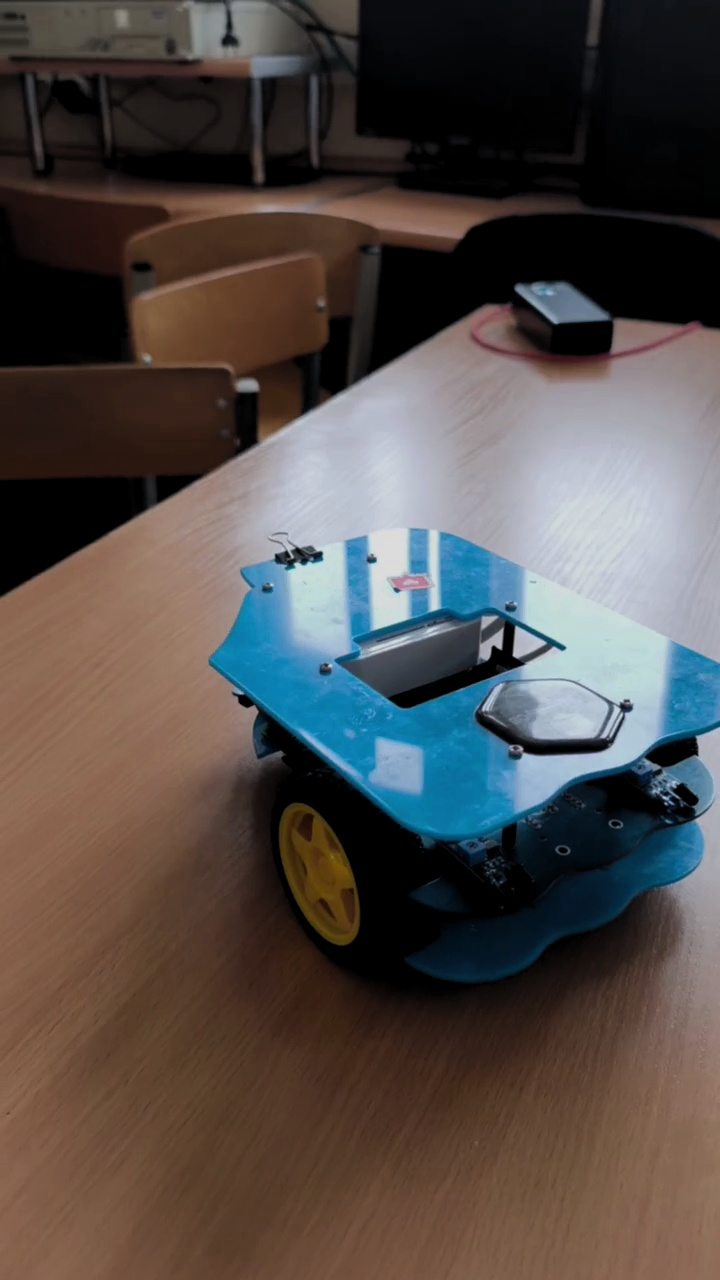robot: (206, 526, 720, 989)
